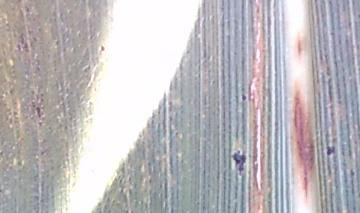tarspot: (231, 150, 246, 177), (325, 144, 336, 156), (35, 106, 42, 118), (98, 44, 107, 52), (240, 93, 248, 101)
